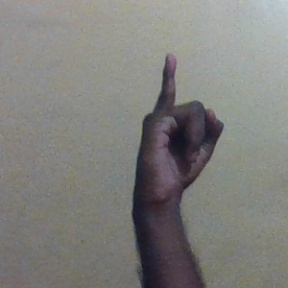I: (131, 53, 223, 205)
